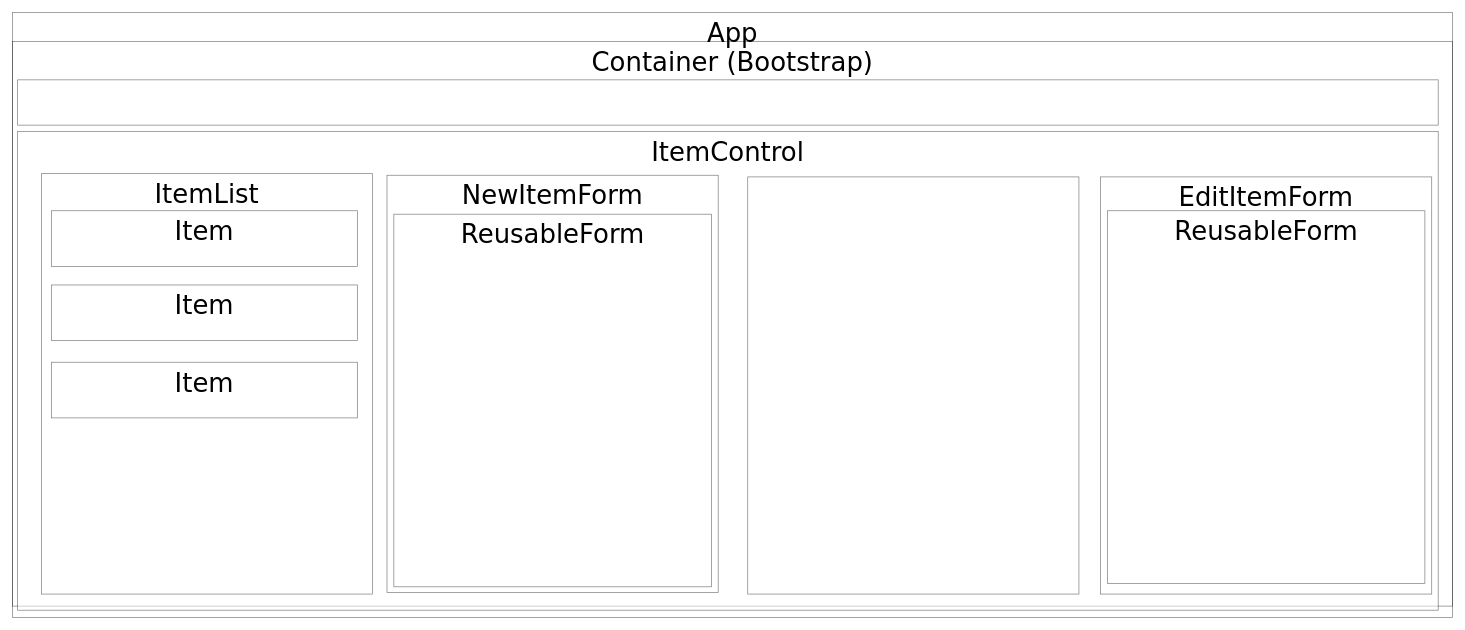
The diagram is 1465 pixels wide and 630 high, and some of its shapes have lost their labels. Each missing label, with the centre of its shape:
"Header" belongs at point 727,102.
"ItemDetail" belongs at point 913,385.
